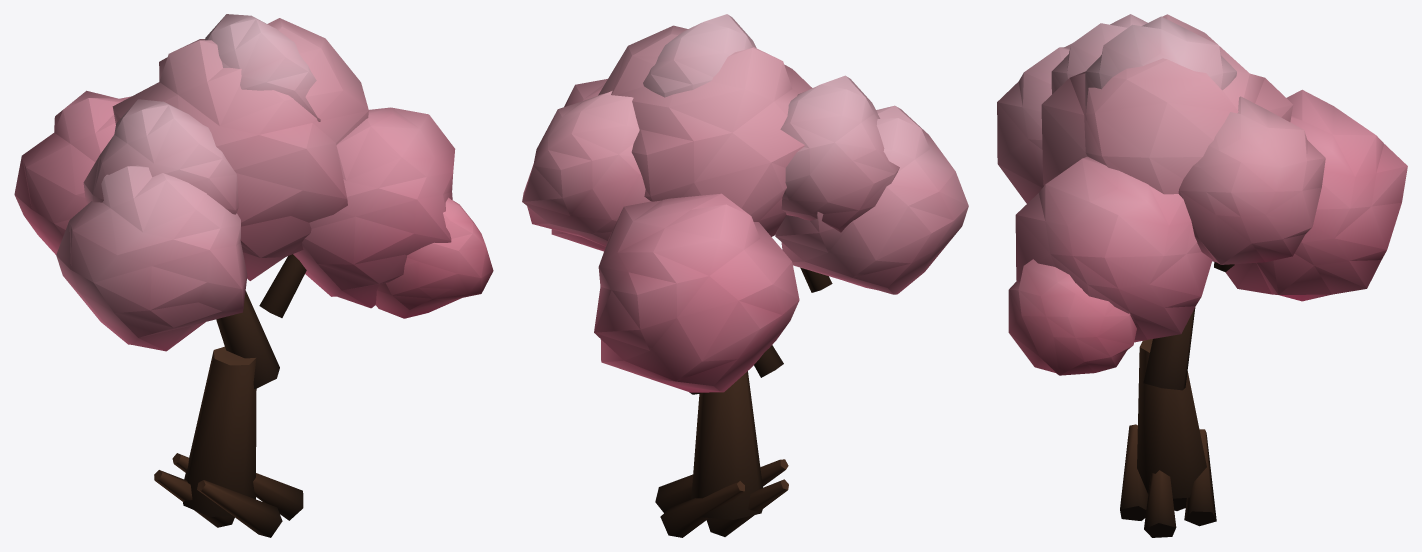
Rendered from tree_sakura.glb.
The picture shows the model from 3 angles, left to right: view 1: azimuth 30°, elevation 25°; view 2: azimuth 150°, elevation 25°; view 3: azimuth 270°, elevation 25°; orthographic projection. The views are drawn at different scales.
Visible parts, largest first — view 1: Foliage, Trunk; view 2: Foliage, Trunk; view 3: Foliage, Trunk.
Boxes of the visible parts, <box> form: Foliage: <box>14,14,493,351</box>; Trunk: <box>154,254,306,537</box>; Foliage: <box>522,14,968,392</box>; Trunk: <box>655,267,832,537</box>; Foliage: <box>997,14,1407,375</box>; Trunk: <box>1120,262,1234,537</box>.
Bounding box in the file's own units: 7.39 × 8.95 × 6.7.
